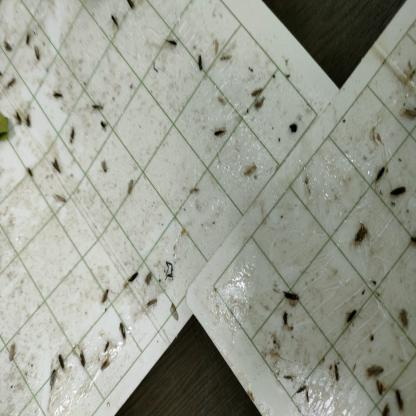prays_oleae: (363, 354, 384, 382), (280, 279, 300, 303), (98, 357, 118, 381), (212, 125, 232, 146), (239, 161, 261, 180), (392, 381, 406, 410), (75, 347, 89, 375), (46, 364, 60, 392), (394, 307, 410, 331), (50, 190, 68, 211), (389, 180, 407, 200), (346, 306, 361, 329), (246, 85, 264, 104), (166, 298, 180, 322), (126, 178, 140, 202), (142, 294, 160, 312), (6, 336, 16, 368), (51, 156, 64, 180), (372, 162, 386, 184), (0, 32, 14, 54), (195, 52, 207, 77), (10, 108, 24, 129), (90, 97, 105, 116), (3, 74, 17, 92), (334, 358, 342, 389), (108, 13, 121, 32), (98, 155, 109, 177), (124, 273, 140, 288), (31, 44, 45, 61), (252, 98, 265, 115), (143, 268, 154, 288), (99, 118, 111, 136), (375, 380, 385, 401), (165, 36, 180, 49), (51, 89, 64, 104), (117, 320, 129, 336), (57, 349, 66, 370), (100, 294, 112, 307), (26, 108, 32, 133), (21, 30, 31, 44)
